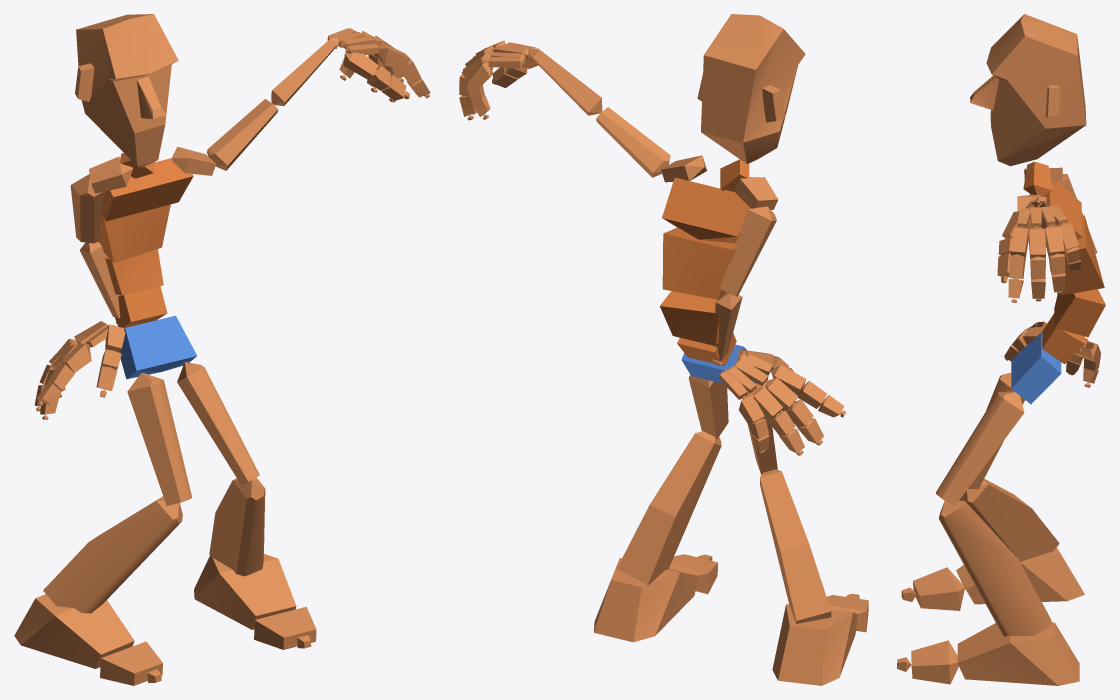
The model's file is personaje330.obj.
3 renders of one model, left to right at view 1: azimuth 30°, elevation 25°; view 2: azimuth 150°, elevation 25°; view 3: azimuth 270°, elevation 25°, orthographic. The views are drawn at different scales.
Visible parts, largest first — view 1: BOPED_Head, BOPED_R_leg, BOPED_R_foot, BOPED_R_foot01, BOPED_R_legup, BOPED_L_leg, BOPED_L_legup, Bone01, Bone05, Bone04, BOPED_L_arm_upper, BOPED_R_foot_toe04 (+9 smaller); view 2: BOPED_Head, BOPED_L_leg, BOPED_R_foot01, BOPED_R_leg, BOPED_R_foot, Bone05, Bone04, Bone03, BOPED_R_arm_upper, BOPED_L_arm_upper, BOPED_L_legup, BOPED_L_arm_fore (+9 smaller); view 3: BOPED_Head, BOPED_L_leg, BOPED_R_foot01, BOPED_R_leg, BOPED_L_legup, BOPED_R_foot, Bone01, Bone03, BOPED_R_foot_toe01, BOPED_R_foot_toe04, Bone04, Bone02 (+9 smaller).
Part boxes in pixels (left/top/right/bottom): BOPED_Head: left=75, top=14, right=178, bottom=167; BOPED_R_leg: left=43, top=496, right=182, bottom=613; BOPED_R_foot: left=14, top=594, right=134, bottom=668; BOPED_R_foot01: left=194, top=554, right=296, bottom=629; BOPED_R_legup: left=127, top=373, right=192, bottom=505; BOPED_L_leg: left=209, top=477, right=265, bottom=576; BOPED_L_legup: left=177, top=362, right=259, bottom=485; Bone01: left=120, top=315, right=196, bottom=379; Bone05: left=101, top=158, right=193, bottom=221; Bone04: left=97, top=204, right=170, bottom=263; BOPED_L_arm_upper: left=207, top=99, right=278, bottom=170; BOPED_R_foot_toe04: left=254, top=606, right=316, bottom=649; BOPED_Head: left=697, top=14, right=805, bottom=164; BOPED_L_leg: left=617, top=431, right=721, bottom=585; BOPED_R_foot01: left=594, top=558, right=698, bottom=642; BOPED_R_leg: left=760, top=469, right=831, bottom=623; BOPED_R_foot: left=772, top=604, right=857, bottom=685; Bone05: left=662, top=177, right=750, bottom=243; Bone04: left=662, top=228, right=735, bottom=299; Bone03: left=660, top=291, right=719, bottom=345; BOPED_R_arm_upper: left=720, top=206, right=776, bottom=296; BOPED_L_arm_upper: left=596, top=107, right=670, bottom=177; BOPED_L_legup: left=688, top=375, right=728, bottom=439; BOPED_L_arm_fore: left=530, top=48, right=602, bottom=115; BOPED_Head: left=970, top=14, right=1086, bottom=166; BOPED_L_leg: left=939, top=500, right=1052, bottom=636; BOPED_R_foot01: left=957, top=622, right=1079, bottom=685; BOPED_R_leg: left=959, top=478, right=1059, bottom=561; BOPED_L_legup: left=936, top=391, right=1024, bottom=506; BOPED_R_foot: left=956, top=547, right=1084, bottom=604; Bone01: left=1011, top=332, right=1061, bottom=404; Bone03: left=1054, top=289, right=1105, bottom=337; BOPED_R_foot_toe01: left=913, top=567, right=964, bottom=610; BOPED_R_foot_toe04: left=911, top=640, right=958, bottom=684; Bone04: left=1061, top=215, right=1104, bottom=295; Bone02: left=1042, top=313, right=1084, bottom=364.
Bounding box in the file's own units: 118 × 178 × 56.5.
